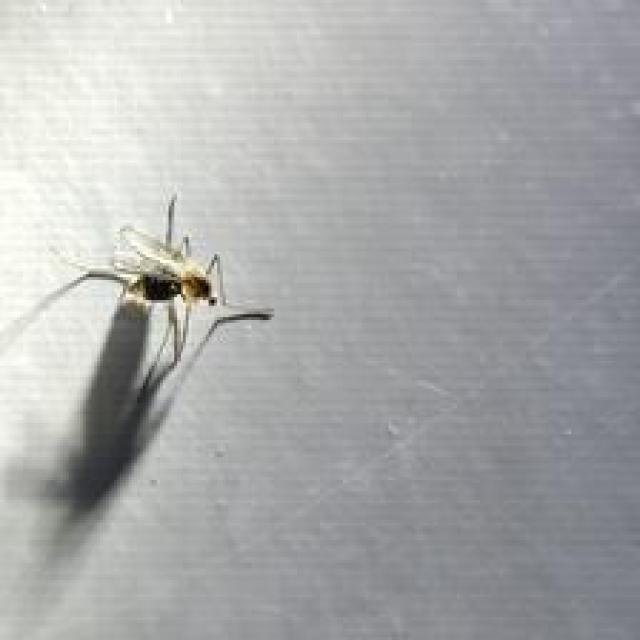Culex: (0, 191, 274, 388)
